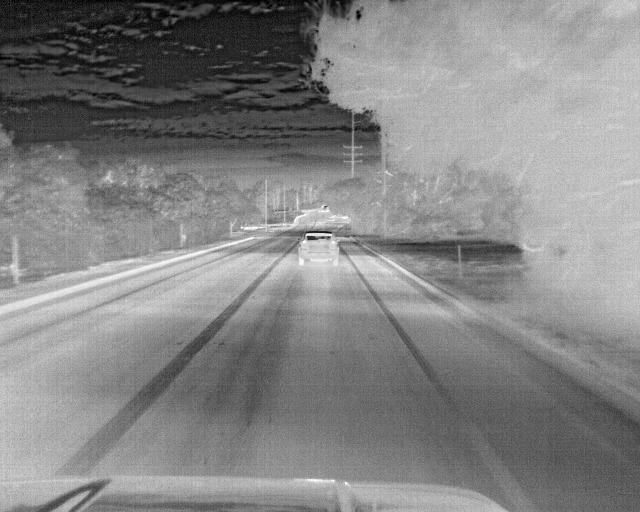car: (297, 230, 342, 266)
